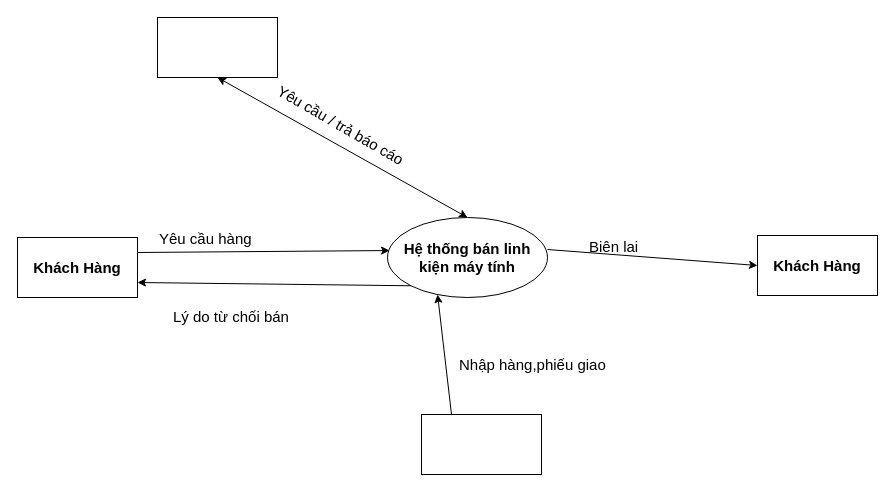
This 895x492 diagram has some shape labels left out. The centre of each missing label's shape, as x and y in pixels:
Nhà Cung Cấp: [481,444]
Quản trị: [217,47]
